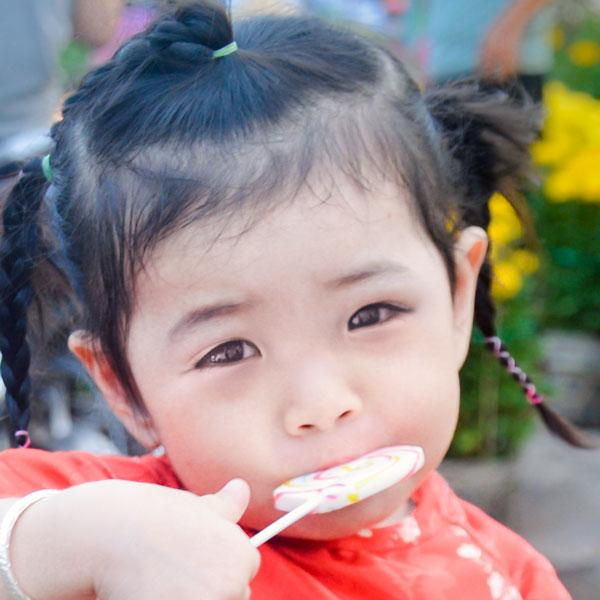Eyes: (183, 327, 272, 387), (331, 289, 419, 347)
